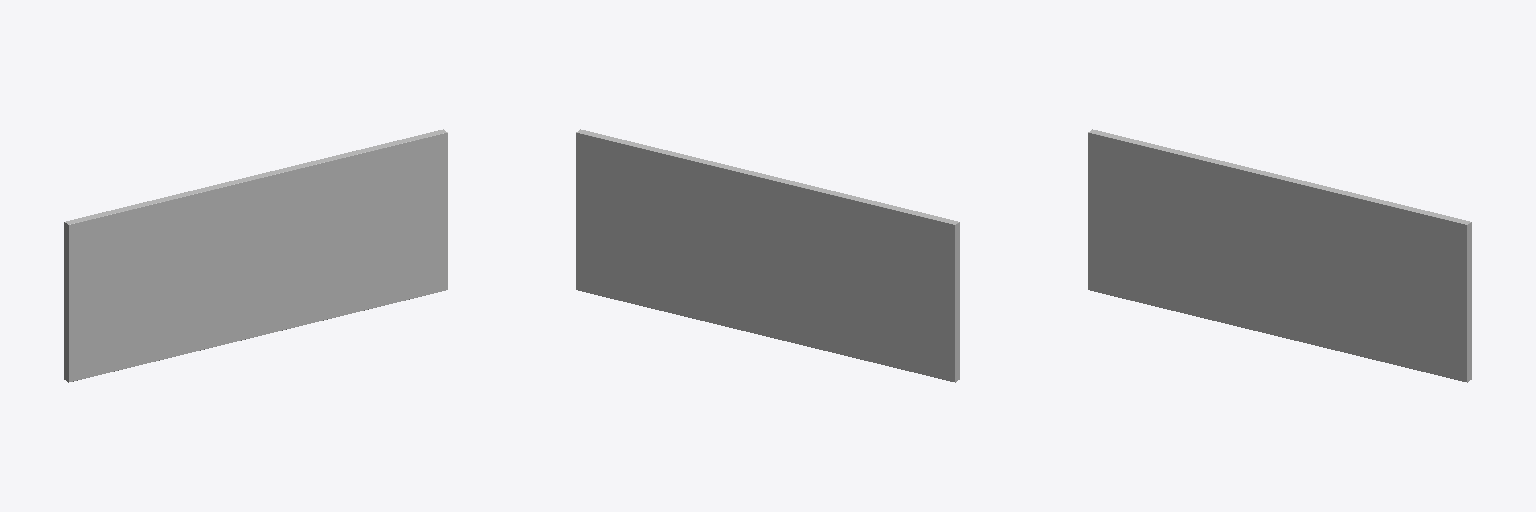
The model's file is B07GFW9GFX_part_6.obj.
3 renders of one model, left to right at view 1: azimuth 30°, elevation 25°; view 2: azimuth 150°, elevation 25°; view 3: azimuth 330°, elevation 25°, orthographic.
Size of the model in its own units: 0.3652 by 0.1453 by 0.0074.